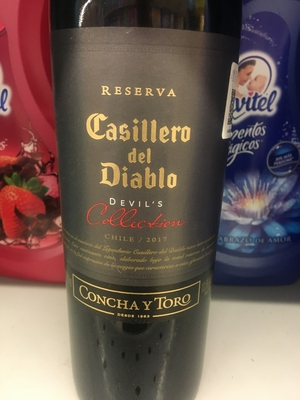casillero del diablo devils collection rojo: (51, 3, 231, 399)
